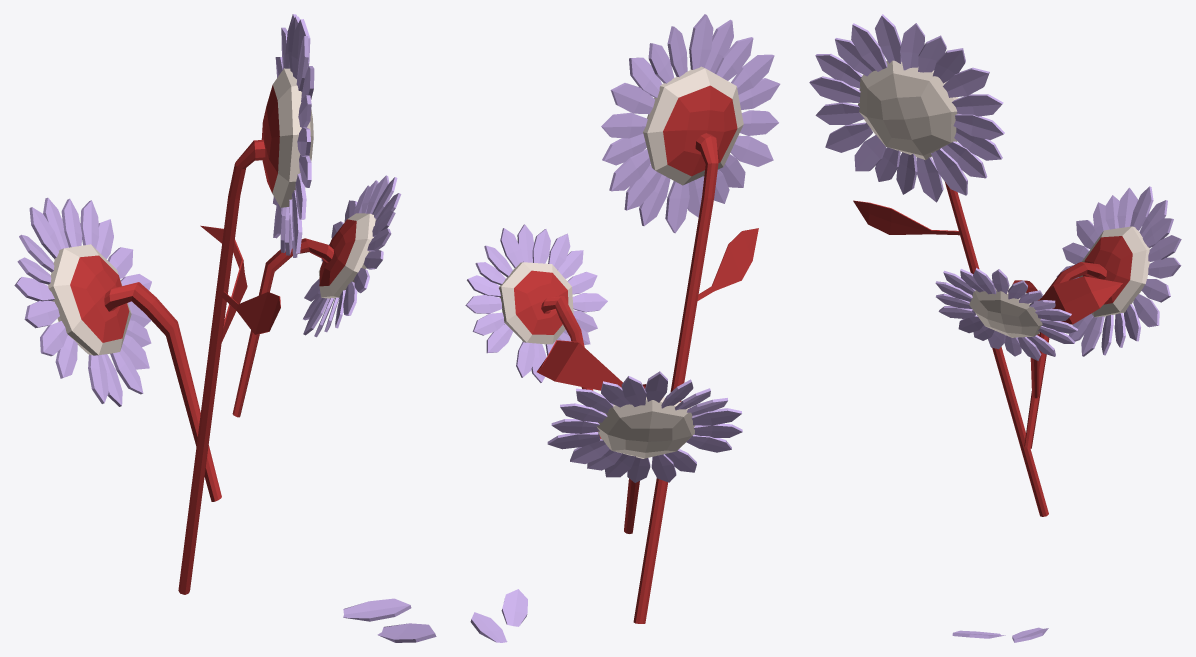
The model's file is Kitchen_2_Sunflowers.fbx.
The picture shows the model from 3 angles, left to right: view 1: azimuth 30°, elevation 25°; view 2: azimuth 150°, elevation 25°; view 3: azimuth 270°, elevation 25°; orthographic projection. The views are drawn at different scales.
Visible parts, largest first — view 1: Kitchen_2_Sunflowers; view 2: Kitchen_2_Sunflowers; view 3: Kitchen_2_Sunflowers.
Part boxes in pixels (left/top/right/bottom): Kitchen_2_Sunflowers: left=14, top=14, right=436, bottom=642; Kitchen_2_Sunflowers: left=465, top=14, right=780, bottom=642; Kitchen_2_Sunflowers: left=809, top=14, right=1181, bottom=642.
Size of the model in its own units: 40.8 by 76.97 by 46.24.
